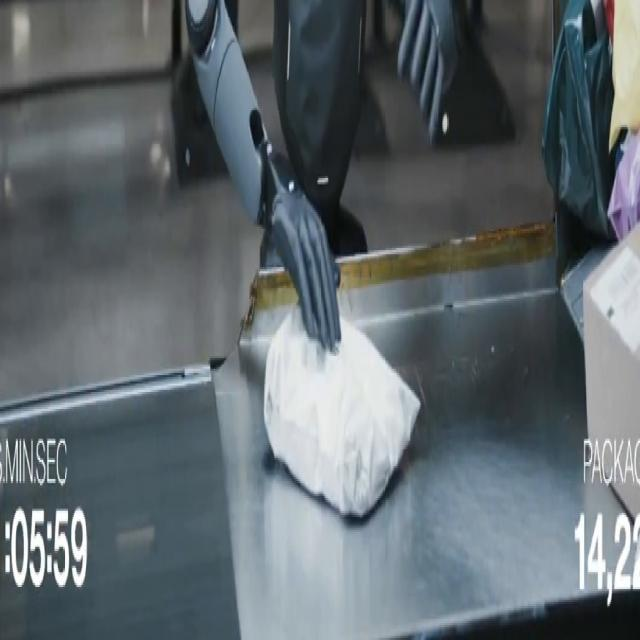package: (264, 306, 420, 517), (542, 0, 615, 239), (584, 229, 639, 514), (609, 0, 639, 150), (608, 134, 639, 241), (603, 0, 615, 42)
